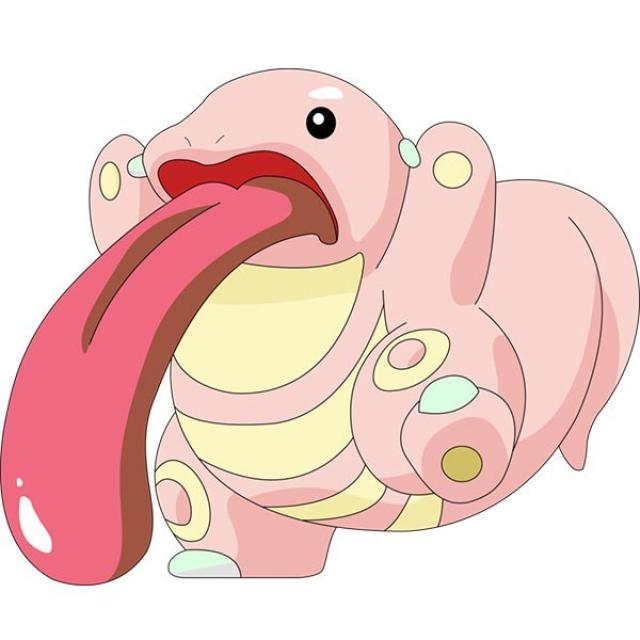Lickitung: (46, 64, 569, 579)
